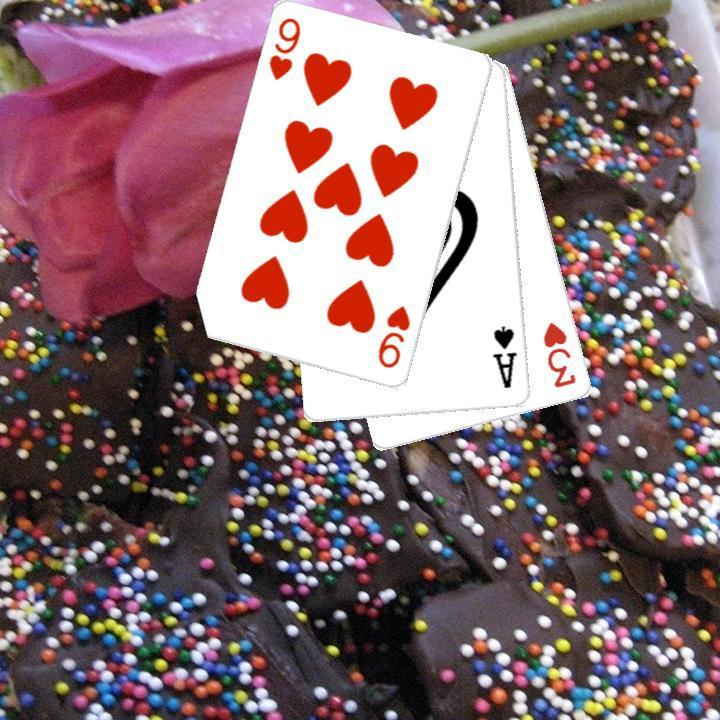3: (539, 318, 579, 391)
9: (264, 13, 303, 83), (374, 302, 413, 371)
A: (489, 322, 520, 391)
